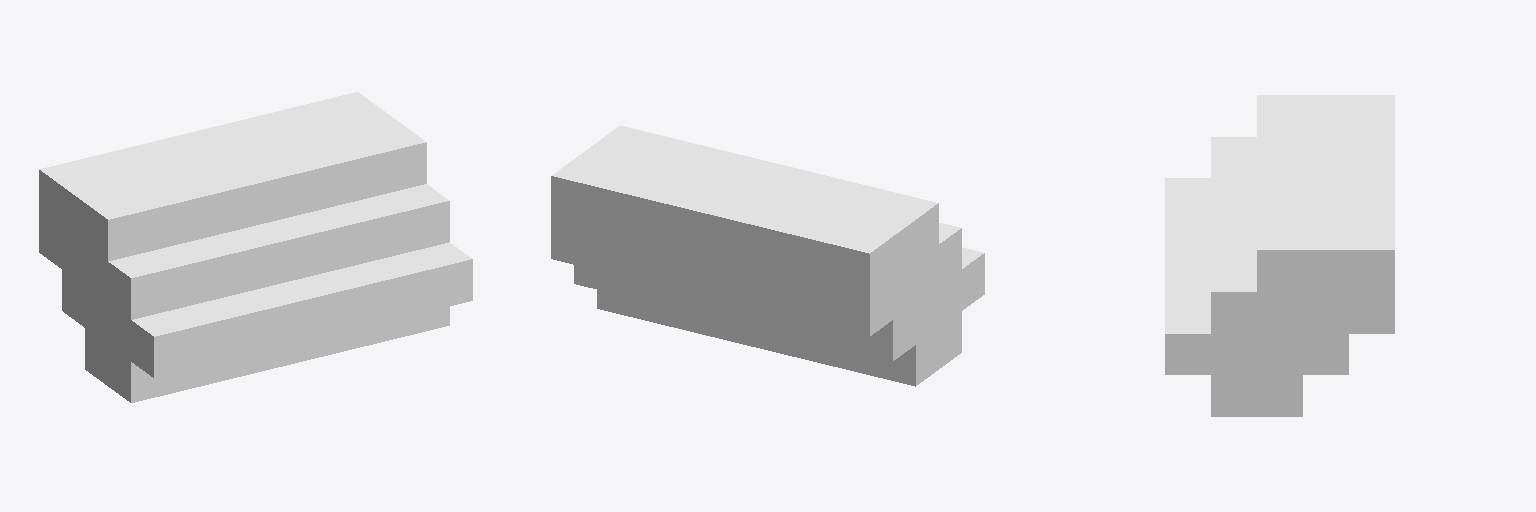
The model's file is JawMiddle.obj.
The picture shows the model from 3 angles: view 1: azimuth 30°, elevation 25°; view 2: azimuth 150°, elevation 25°; view 3: azimuth 270°, elevation 25°; orthographic projection.
Size of the model in its own units: 8 by 4 by 5.